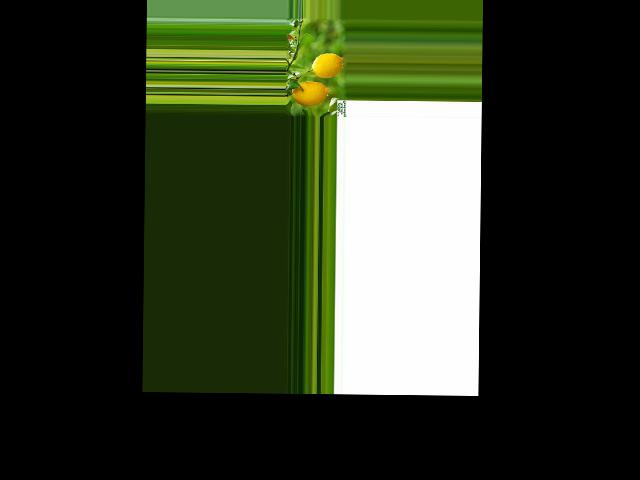lemon: (290, 77, 330, 108)
